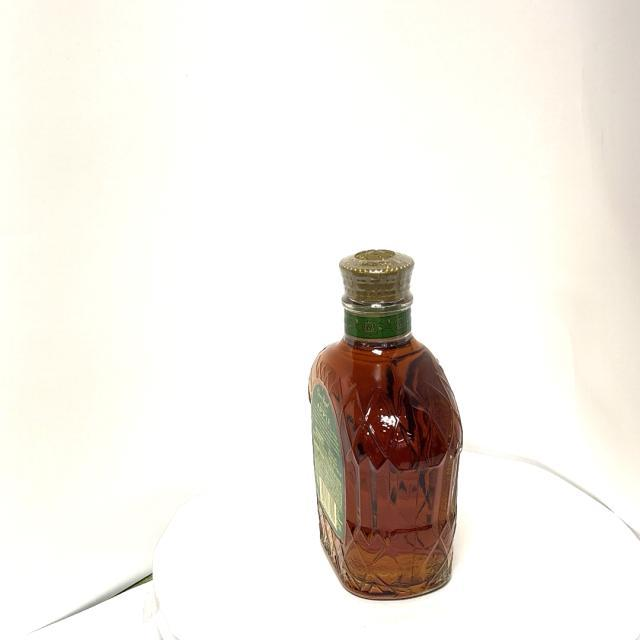CROWN ROYAL APPLE 375ML: (284, 248, 497, 604)
